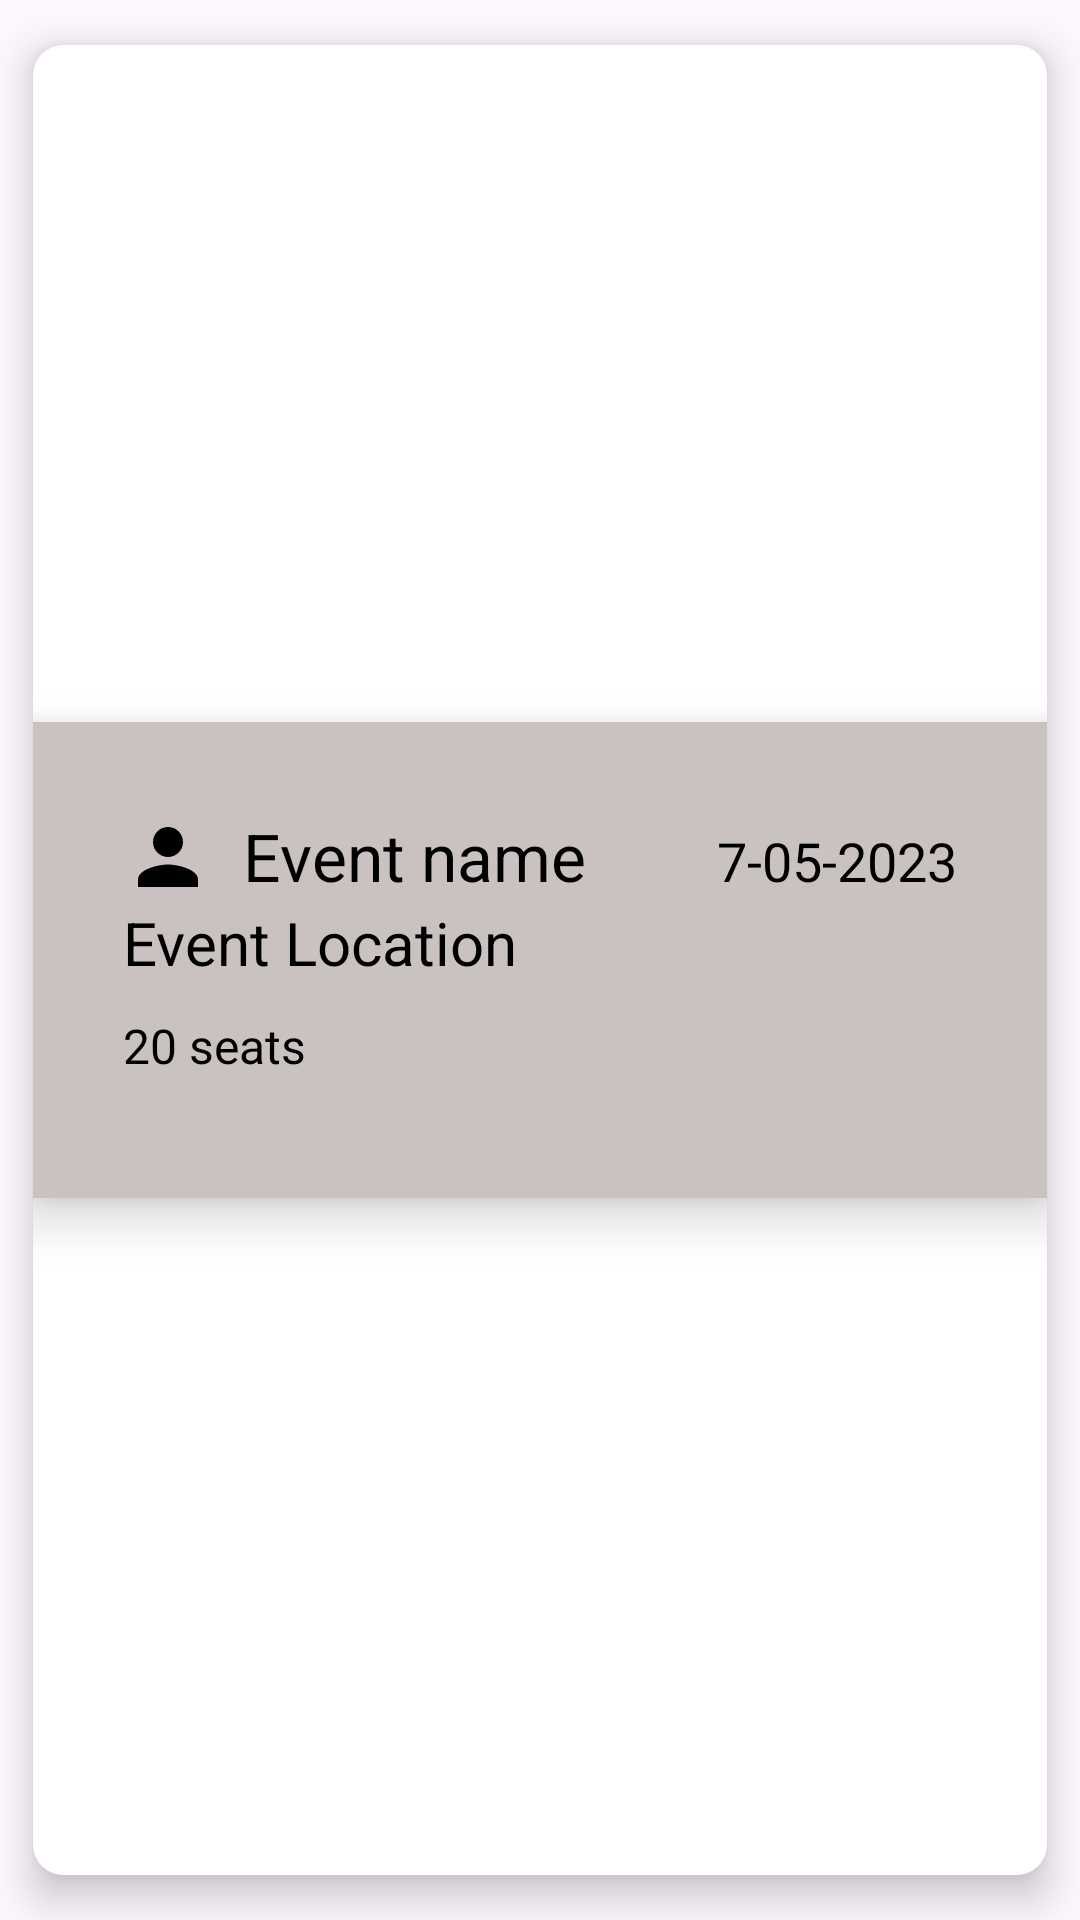

Icons on this 1080 x 1920 Android screen, each with the point to tap as (x,y):
person: (168,857)
